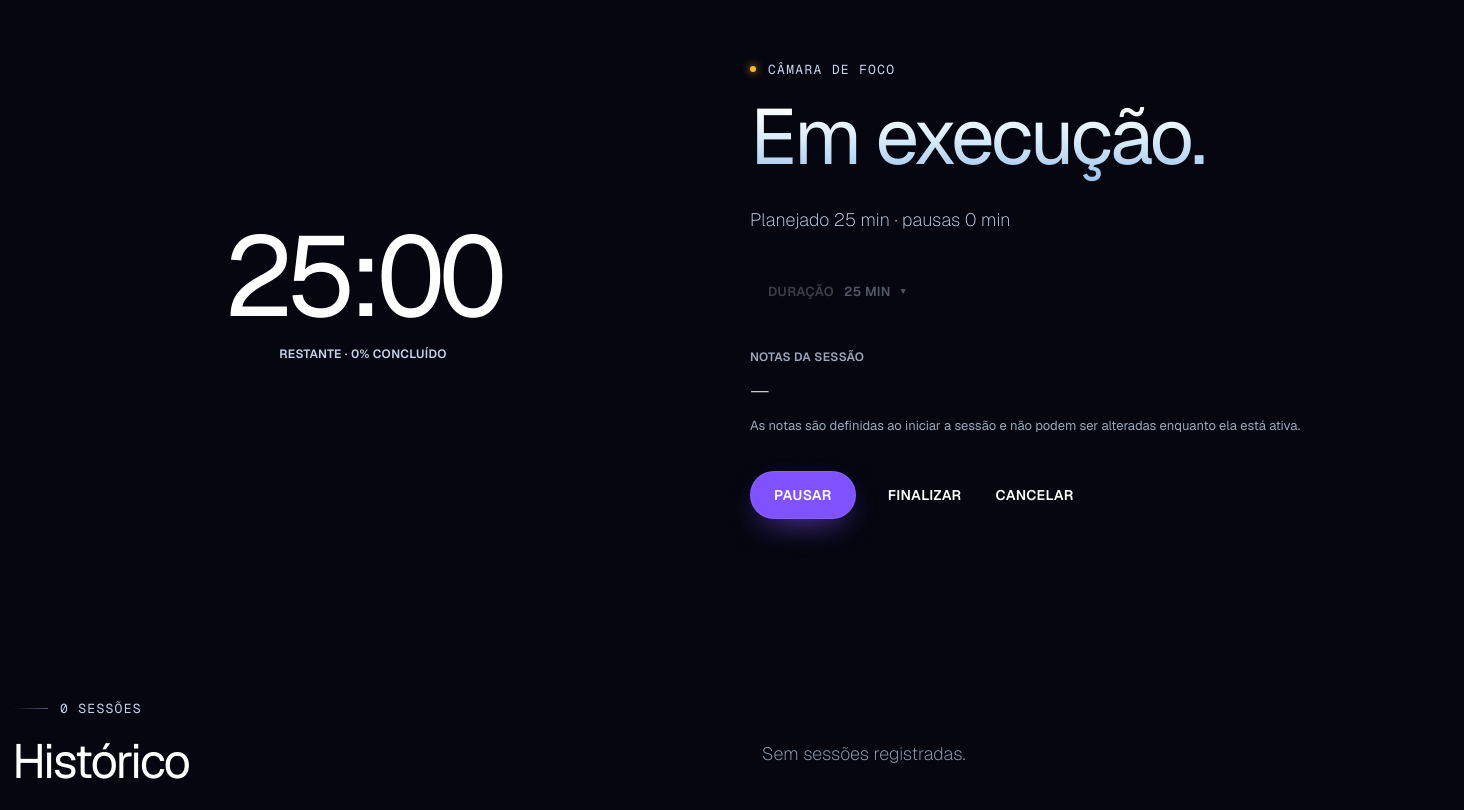
Test: FocusPage session actions › finish updates controls immediately from the mutation response, without refetching the current session
Click the button "Finalizar". click: (925, 495)
box: 886,473 -> 964,517
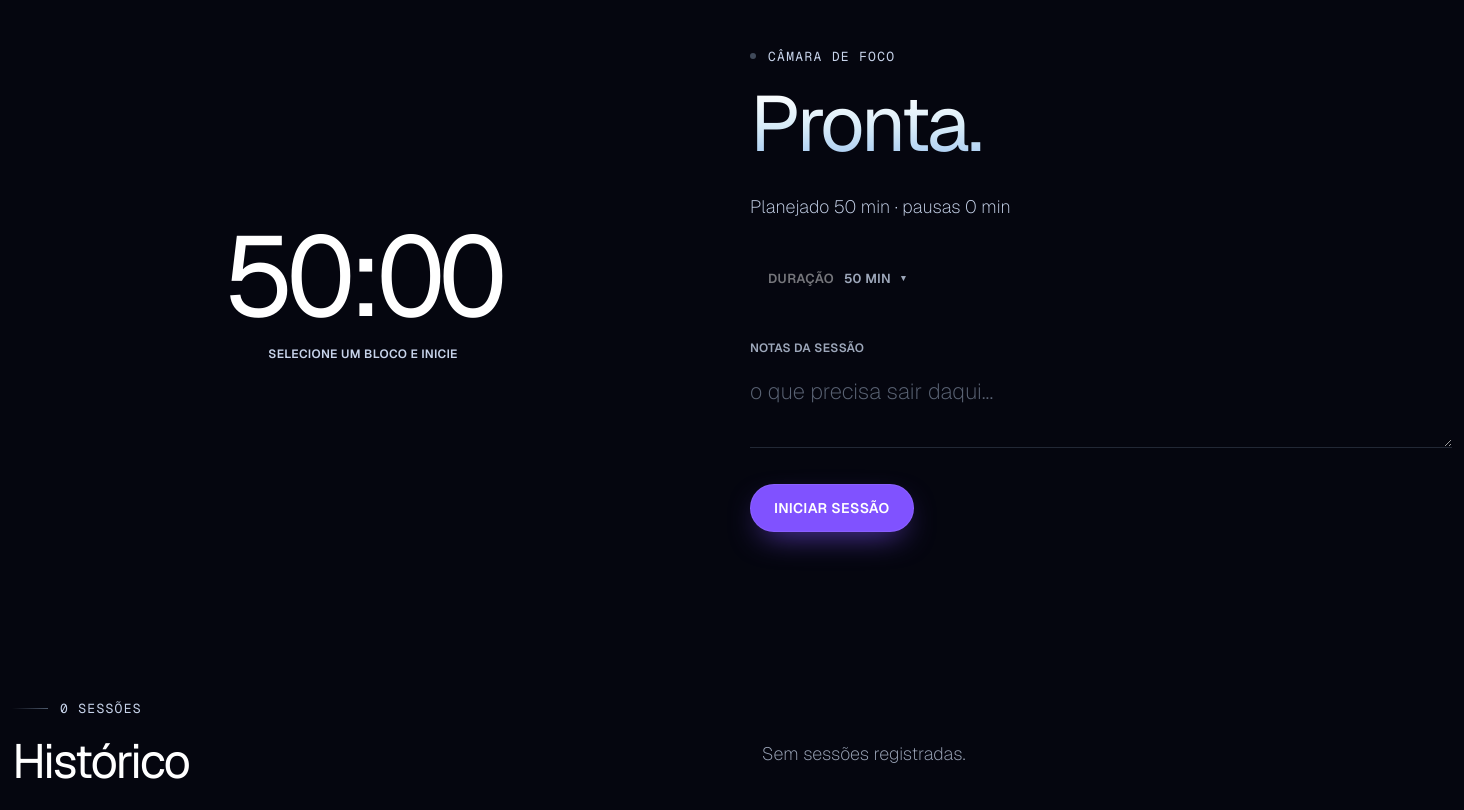
Result: the button "Iniciar sessão" is shown at 750,484 -> 914,532
Result: the button "Finalizar" is gone
Result: the button "Pausar" is gone
